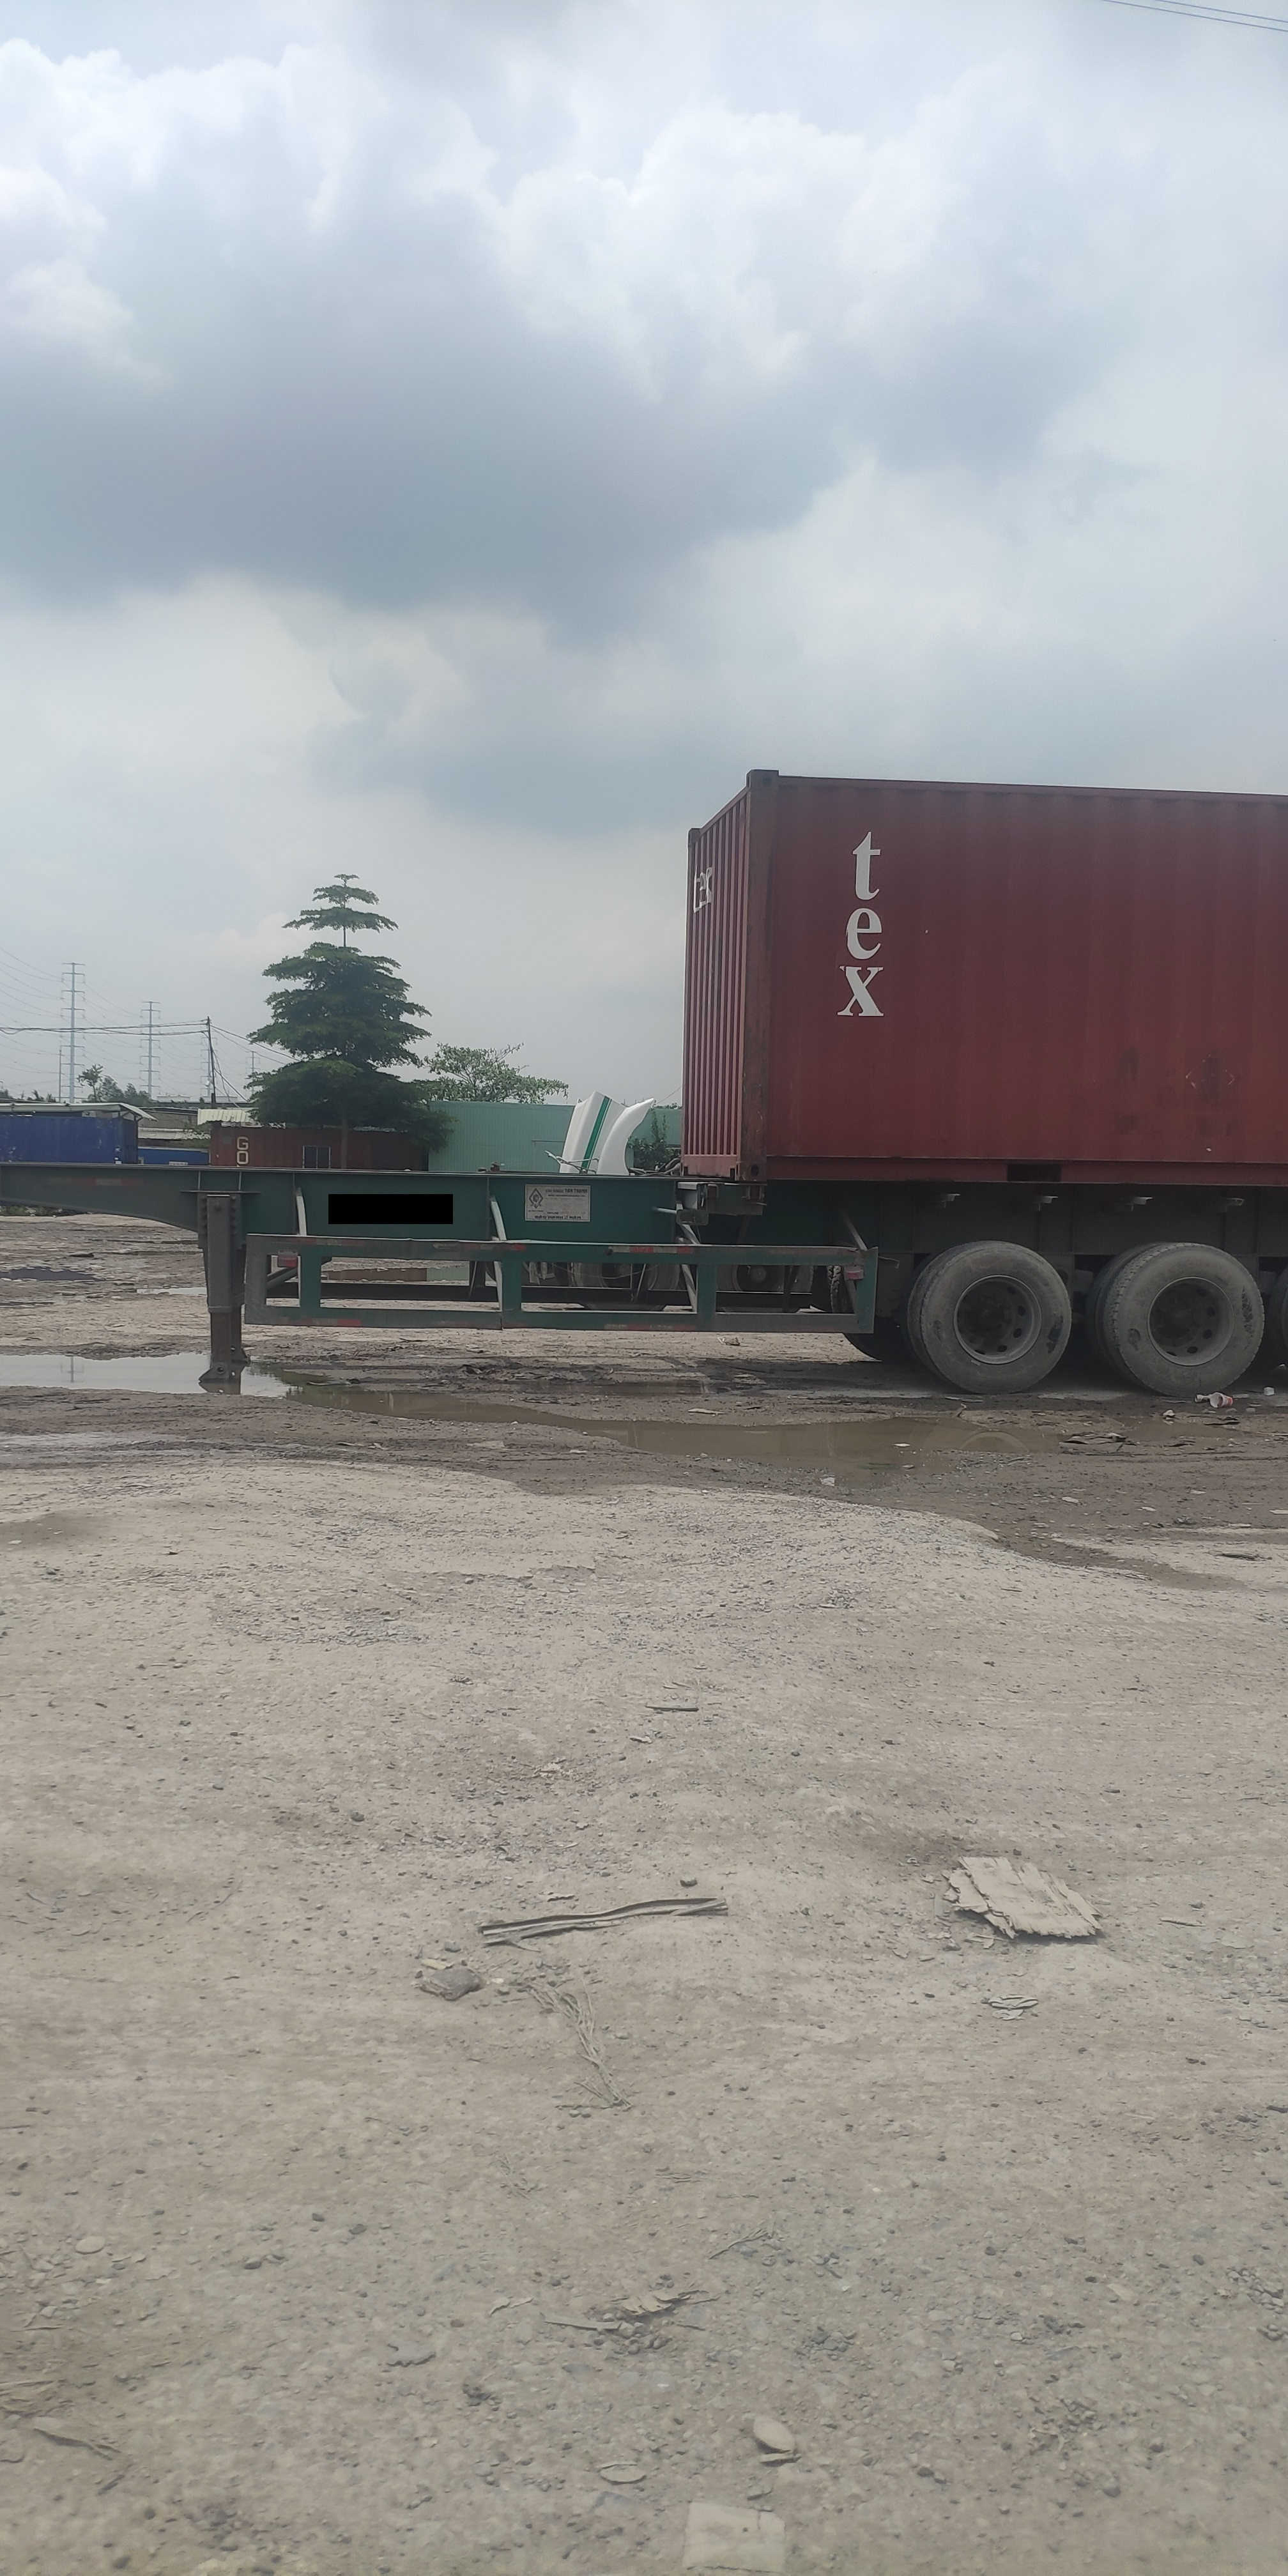hole: (3, 1339, 567, 1441), (586, 1403, 1088, 1477), (0, 1253, 107, 1290)
